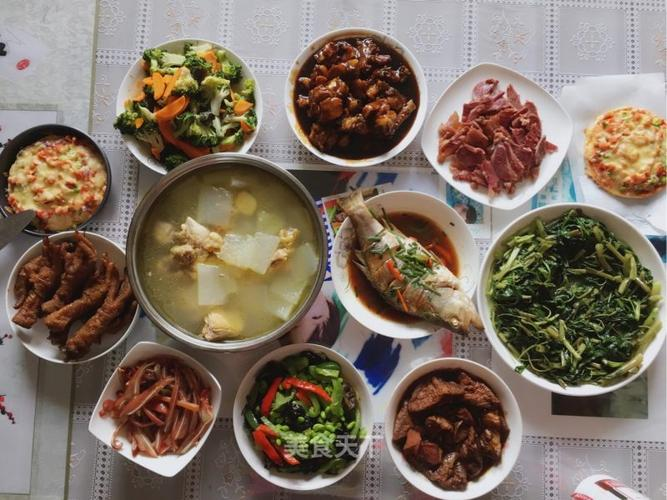food: (130, 150, 335, 355), (472, 181, 661, 397), (329, 181, 483, 340), (110, 28, 267, 175), (282, 15, 429, 167), (421, 53, 567, 204), (383, 344, 523, 492), (234, 335, 373, 483), (4, 220, 138, 359), (84, 336, 224, 468), (0, 117, 112, 233), (574, 95, 664, 201)
